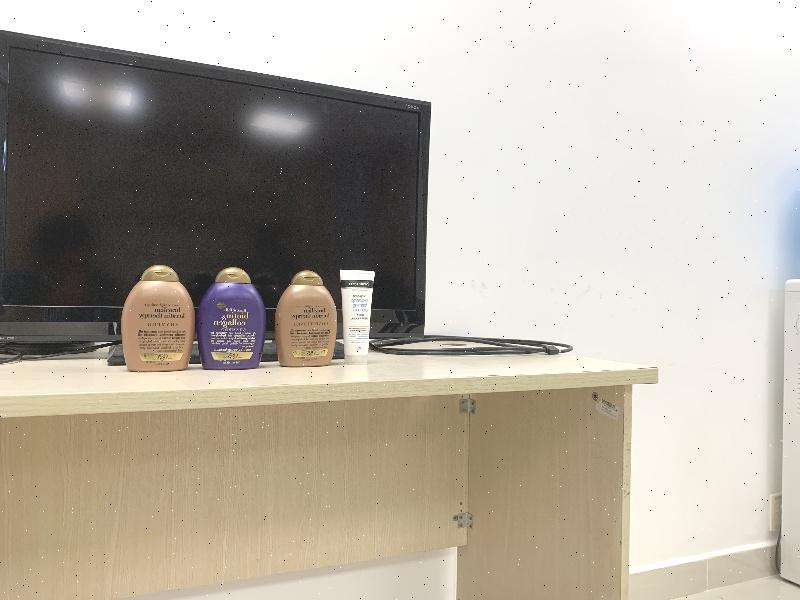BiotinCollagen_Shampoo: (198, 267, 265, 369)
BrazilianKeratinTherapy_Shampoo: (121, 265, 195, 372)
BrazilianKerationTherapy_Conditioner: (276, 270, 337, 367)
HydratingFoamingCleanser: (340, 270, 375, 365)
